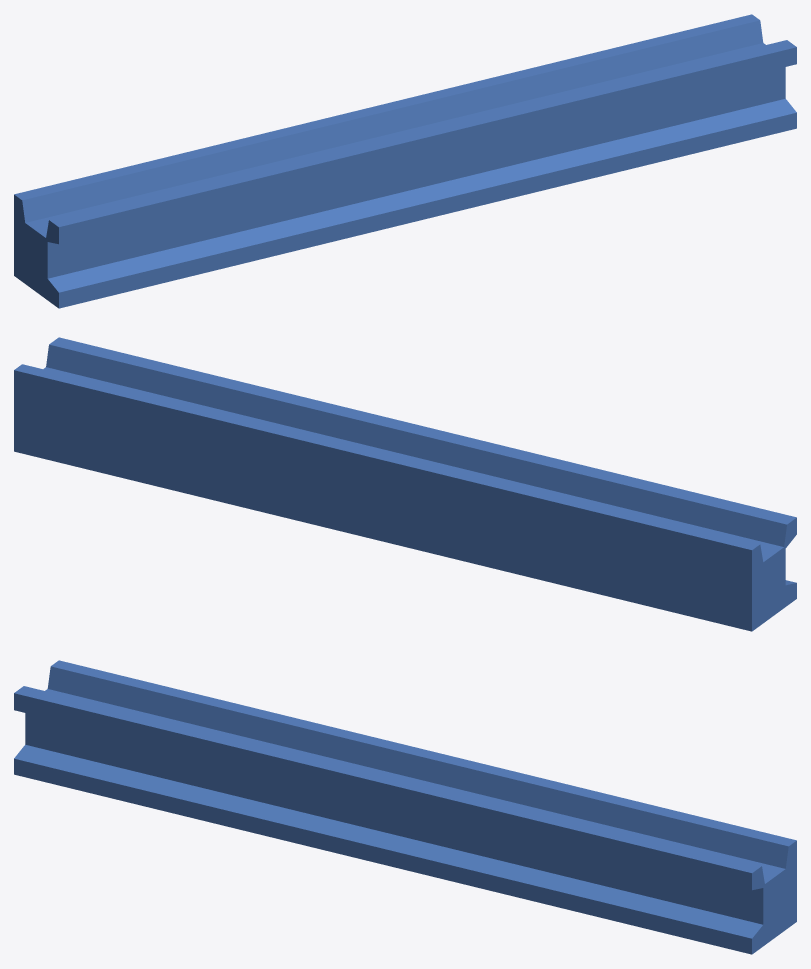
Rendered from anglesteelbeam.fbx.
3 renders of one model, top to bottom at view 1: azimuth 30°, elevation 25°; view 2: azimuth 150°, elevation 25°; view 3: azimuth 330°, elevation 25°, orthographic.
Visible parts, largest first — view 1: AngleSteelBeam; view 2: AngleSteelBeam; view 3: AngleSteelBeam.
Boxes of the visible parts, <box> form: AngleSteelBeam: <box>14,14,796,308</box>; AngleSteelBeam: <box>14,337,796,631</box>; AngleSteelBeam: <box>14,660,796,954</box>.
Size of the model in its own units: 17.49 by 1.84 by 1.84.
